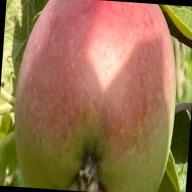Apples: (10, 0, 182, 192)
